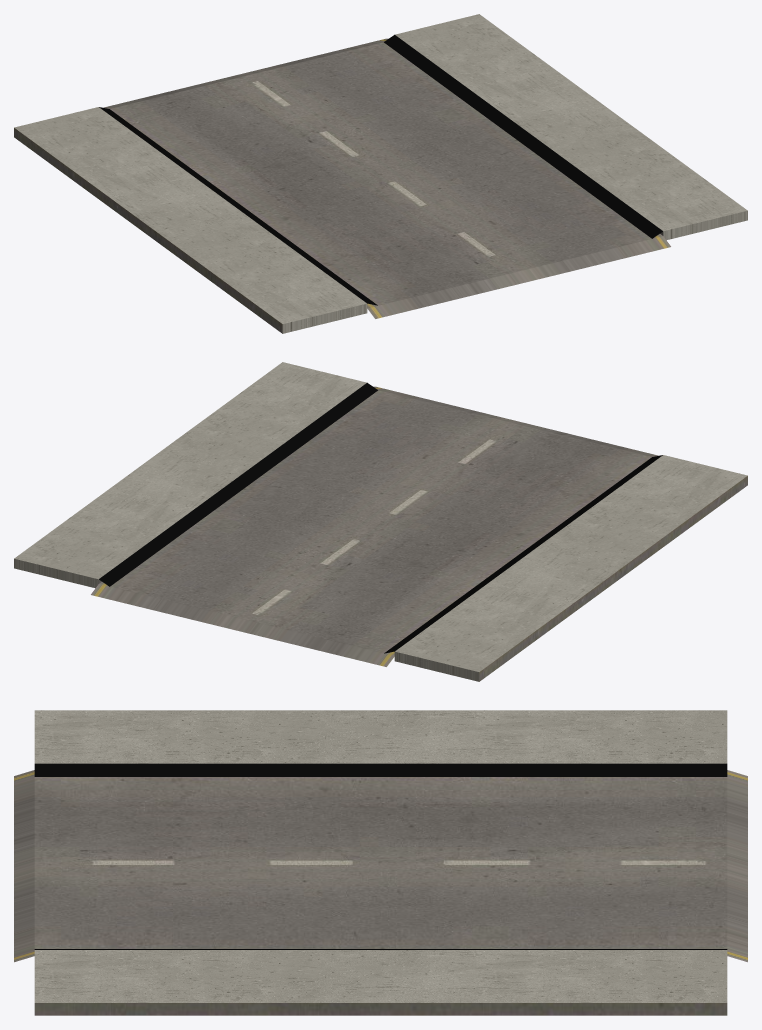
File: Line_road.fbx
The picture shows the model from 3 angles, top to bottom: view 1: azimuth 30°, elevation 25°; view 2: azimuth 150°, elevation 25°; view 3: azimuth 270°, elevation 25°; orthographic projection. The views are drawn at different scales.
Visible parts, largest first — view 1: Road_Line; view 2: Road_Line; view 3: Road_Line.
Boxes of the visible parts, x1,y1,x2,y2 form: Road_Line: [14, 14, 747, 333]; Road_Line: [14, 362, 747, 681]; Road_Line: [14, 710, 747, 1015].
Size of the model in its own units: 20 by 0.4 by 21.2.
